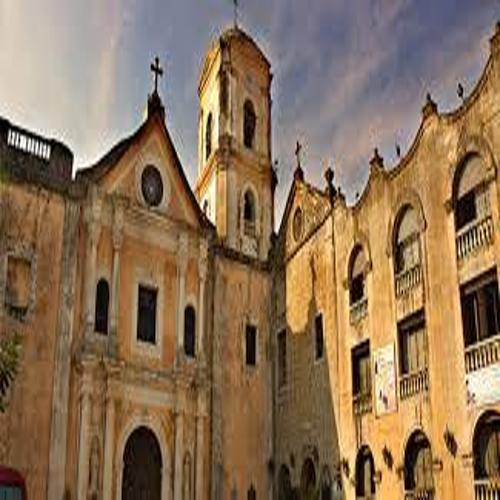San Agustin Church: (77, 3, 275, 500)
